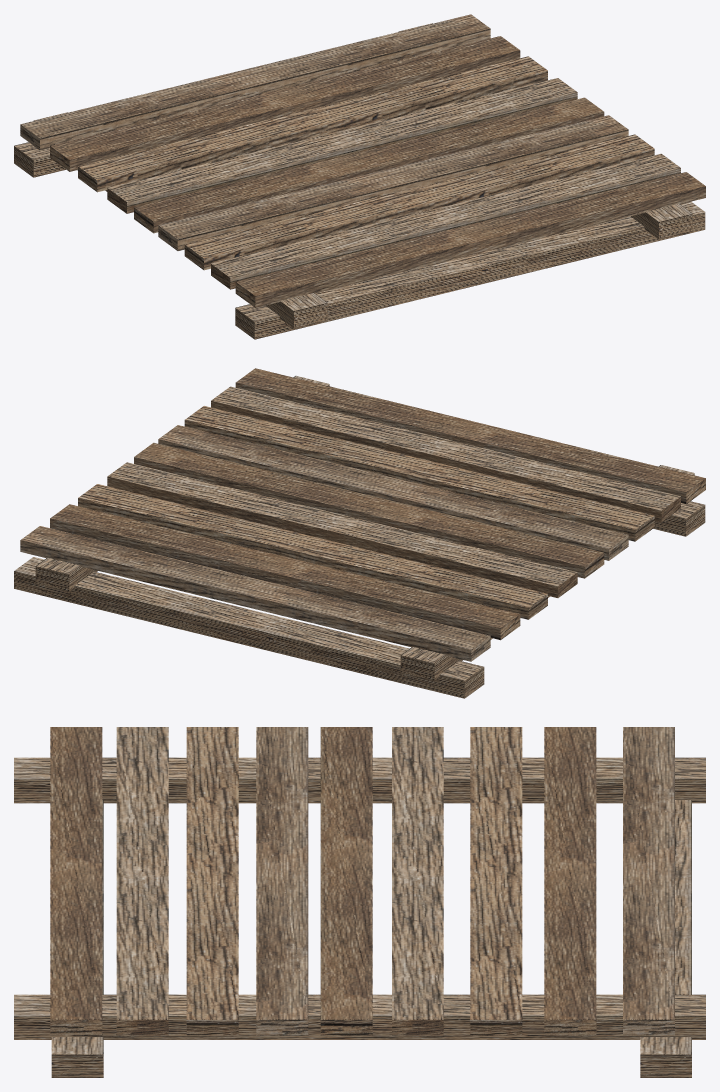
The model's file is plat_noSupports.fbx.
3 views of the same model, one above another, from view 1: azimuth 30°, elevation 25°; view 2: azimuth 150°, elevation 25°; view 3: azimuth 270°, elevation 25° (orthographic). The views are drawn at different scales.
Parts seen in each view (by area): view 1: plat; view 2: plat; view 3: plat.
Boxes of the visible parts, left/top/right/bottom form: plat: left=14, top=14, right=705, bottom=339; plat: left=14, top=368, right=705, bottom=698; plat: left=14, top=727, right=705, bottom=1077.
Bounding box in the file's own units: 400 × 37.25 × 400.
Materials: 2 (2 with a texture image).
